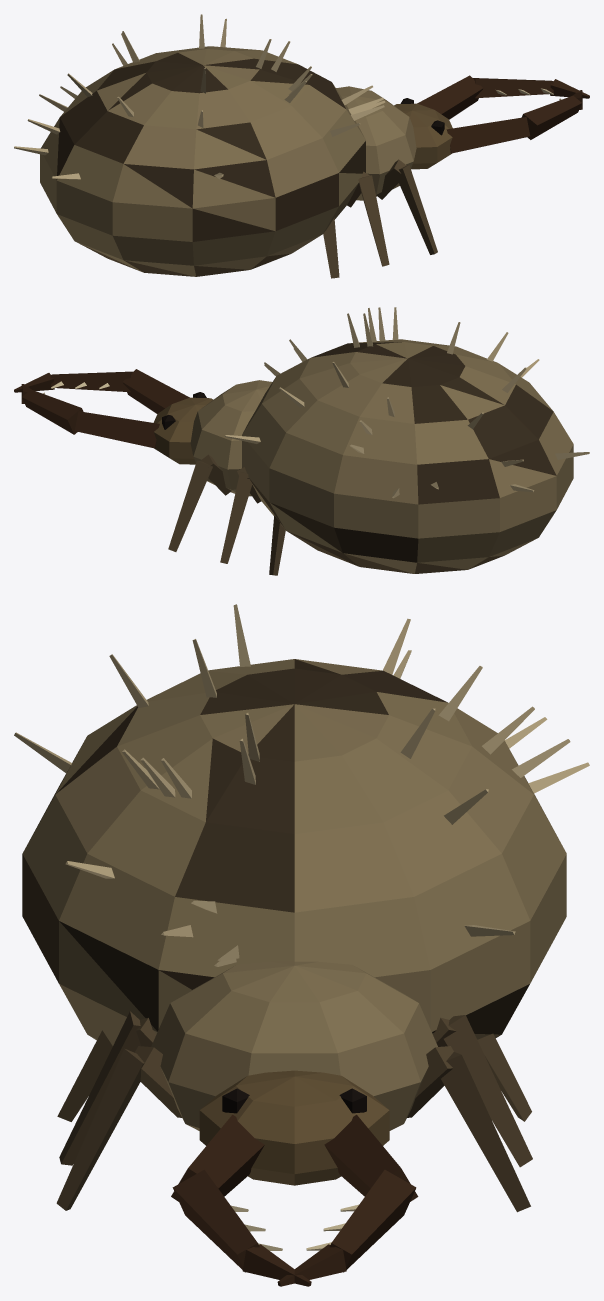
File: bosses-the-antlion-queen-snapping.glb
3 renders of one model, top to bottom at view 1: azimuth 30°, elevation 25°; view 2: azimuth 150°, elevation 25°; view 3: azimuth 270°, elevation 25°, orthographic. The views are drawn at different scales.
Bounding box in the file's own units: 15.49 × 5.81 × 7.5.
